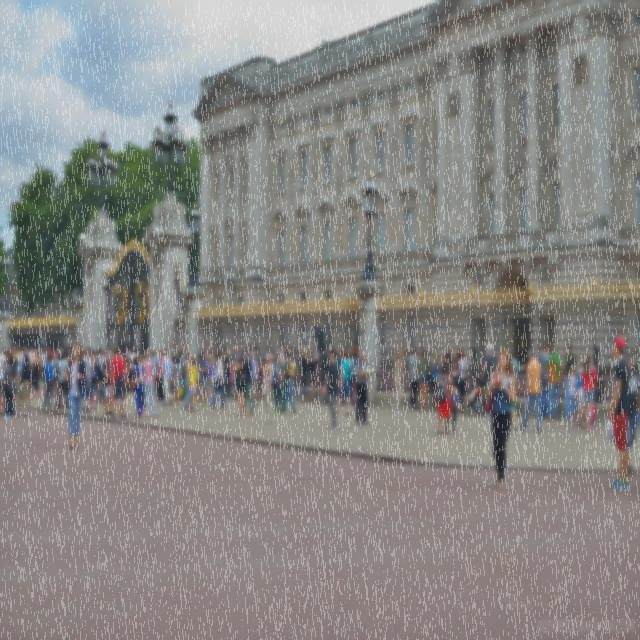pessoa: (481, 346, 518, 492), (608, 334, 632, 490), (61, 340, 88, 450), (517, 347, 543, 434), (352, 349, 378, 427), (624, 352, 640, 476), (495, 348, 517, 436), (434, 360, 456, 436), (479, 342, 500, 418), (544, 342, 564, 420), (323, 347, 341, 430), (140, 348, 161, 419), (581, 353, 599, 433), (276, 349, 298, 414), (444, 356, 462, 434), (110, 346, 128, 420), (334, 348, 352, 417), (536, 340, 551, 420), (193, 347, 211, 412), (260, 352, 275, 426), (564, 343, 578, 421), (271, 350, 288, 414), (2, 352, 18, 420), (416, 345, 432, 412), (16, 351, 32, 418), (211, 350, 228, 410), (232, 351, 247, 418), (392, 346, 406, 416), (240, 348, 254, 418), (54, 350, 70, 410), (454, 346, 468, 414), (41, 352, 58, 408), (408, 344, 422, 411), (158, 350, 174, 408), (130, 354, 144, 420), (102, 348, 115, 418), (132, 352, 146, 416), (318, 342, 332, 404), (80, 348, 93, 414), (306, 348, 321, 403), (149, 350, 164, 403), (221, 346, 235, 402), (89, 352, 102, 412), (430, 350, 442, 413), (186, 355, 199, 413), (576, 357, 586, 429), (568, 364, 579, 427), (507, 348, 526, 382), (299, 346, 310, 404), (1, 348, 10, 416), (250, 349, 260, 407), (345, 350, 355, 407), (182, 352, 192, 409), (350, 350, 360, 406), (232, 344, 242, 400), (44, 342, 72, 361), (96, 346, 105, 405), (252, 348, 262, 401), (109, 348, 117, 413), (182, 352, 192, 403), (17, 345, 30, 384), (633, 360, 640, 430), (206, 356, 217, 400), (172, 356, 182, 404), (128, 347, 138, 394), (157, 348, 165, 402), (288, 345, 298, 388), (610, 346, 618, 398), (32, 347, 40, 397), (262, 352, 270, 400), (222, 368, 234, 399), (196, 350, 203, 403), (8, 346, 18, 382), (121, 353, 129, 394), (274, 347, 284, 378), (206, 359, 212, 407), (0, 344, 5, 400), (8, 342, 22, 360), (26, 344, 34, 374), (38, 346, 48, 369), (442, 350, 452, 371), (102, 343, 116, 356), (180, 344, 190, 362), (212, 381, 222, 397), (335, 350, 343, 368), (280, 344, 287, 364), (124, 346, 131, 364), (87, 348, 95, 359), (246, 344, 252, 358), (170, 352, 176, 366), (206, 346, 214, 356), (177, 352, 183, 365), (220, 352, 226, 365), (84, 344, 91, 354), (236, 346, 241, 358), (162, 348, 168, 358), (134, 347, 139, 354)
